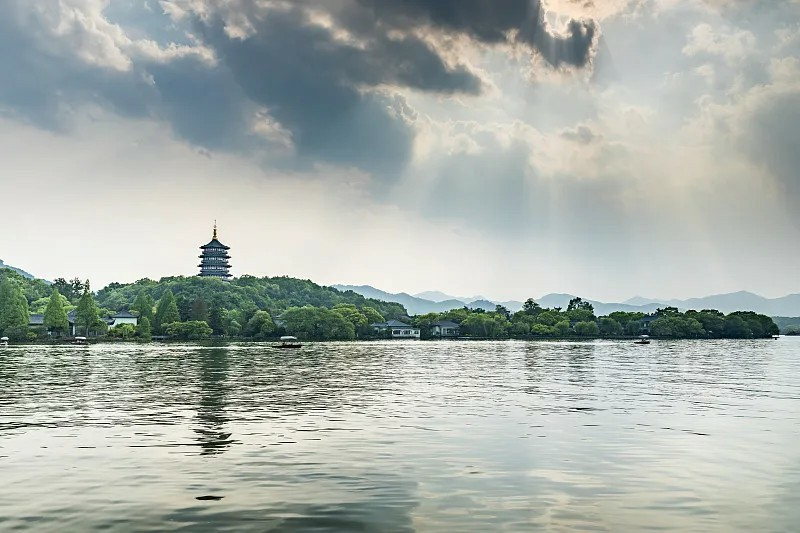Leifeng: (197, 219, 234, 281)
